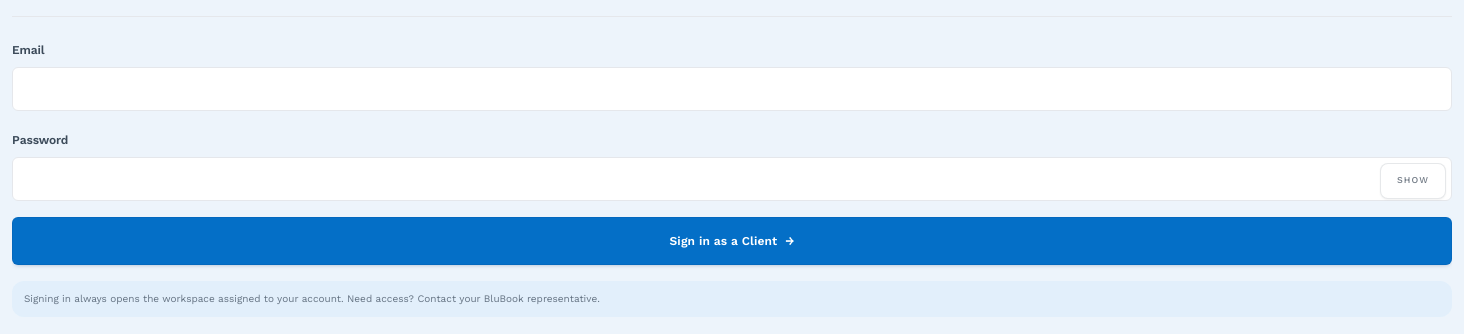
Test case: LoginForm › preserves password-manager semantics and toggles password visibility
The width and height of the screenshot is (1464, 334).
Check: the button "Sign in as a Client →" is enabled, box [12,217,1452,265]
Type "secure-password" into the password field labelled "Password" at (732, 179), box [12,157,1452,201]
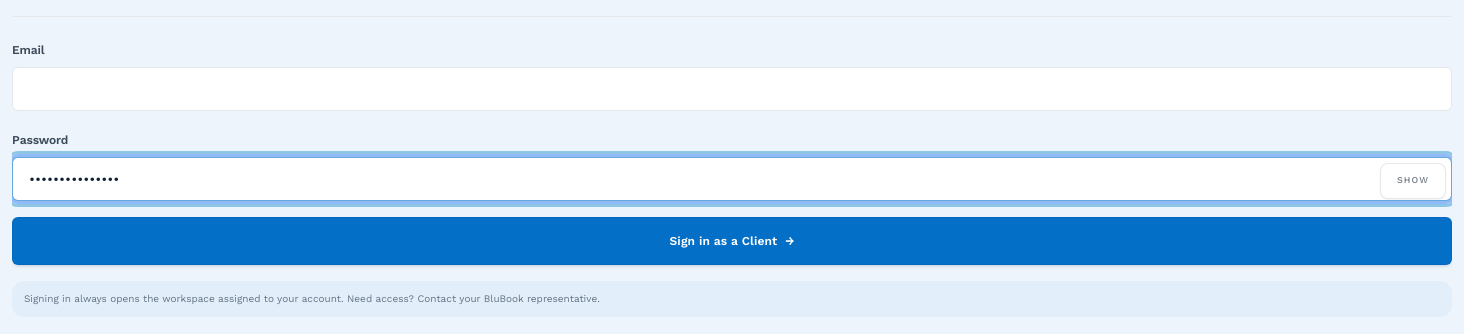
Click the button with aria-label "Show password" at (1413, 181), box [1380,163,1446,199]
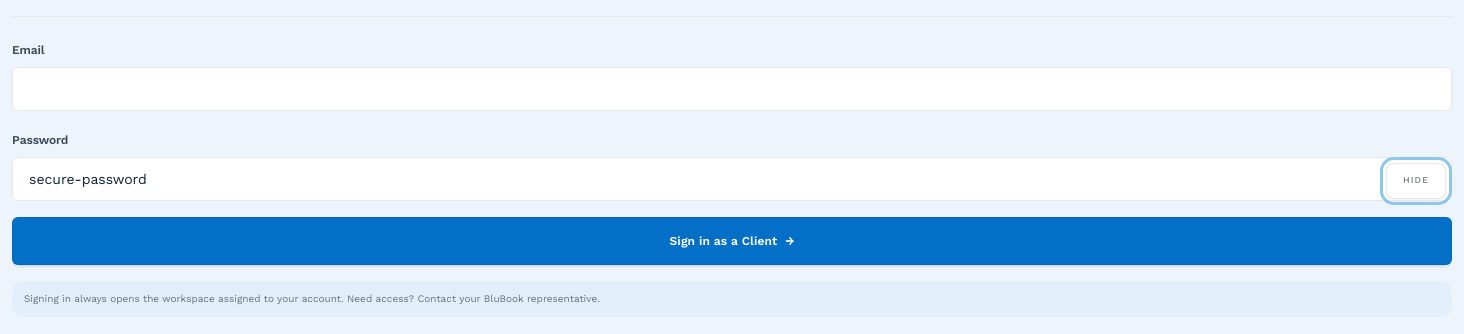
Check: the field labelled "Password" shows its text, box [12,157,1452,201]
